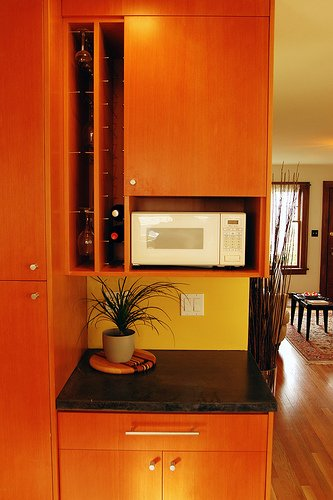chair: (291, 292, 332, 340)
dining table: (57, 352, 278, 498)
potted plant: (87, 278, 186, 362)
